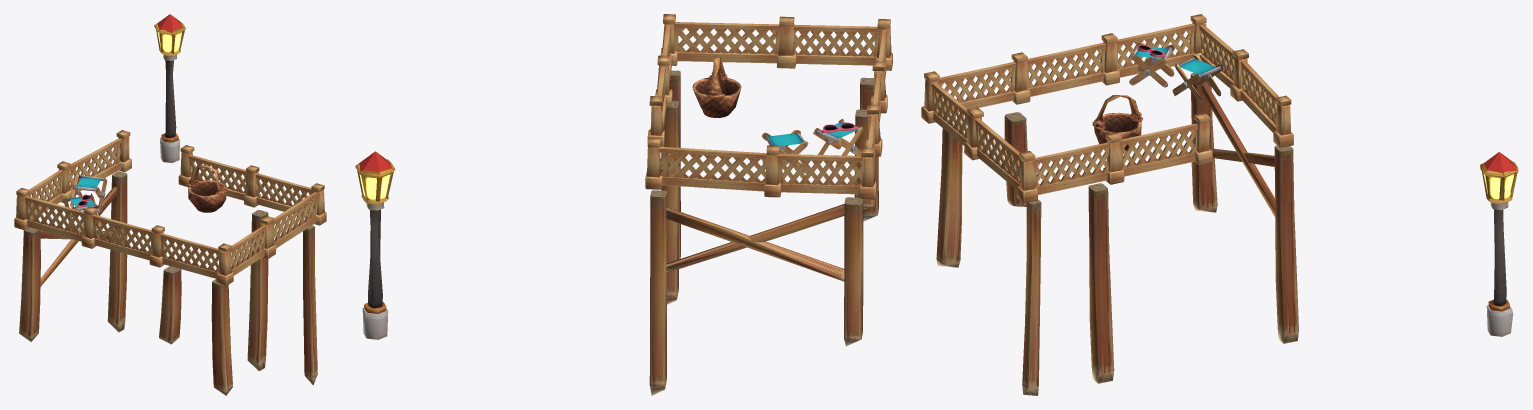
3 views of the same model, side by side, from view 1: azimuth 30°, elevation 25°; view 2: azimuth 150°, elevation 25°; view 3: azimuth 270°, elevation 25° (orthographic). The views are drawn at different scales.
Visible parts, largest first — view 1: Balon1; view 2: Balon1; view 3: Balon1.
Part boxes in pixels (x1=…): Balon1: x1=14, y1=14, x2=326, y2=395; Balon1: x1=355, y1=14, x2=892, y2=395; Balon1: x1=921, y1=14, x2=1518, y2=395.
Size of what is drawn, in the model's own units: 0.0425 by 0.0308 by 0.0612.
6 materials, 6 textured.
